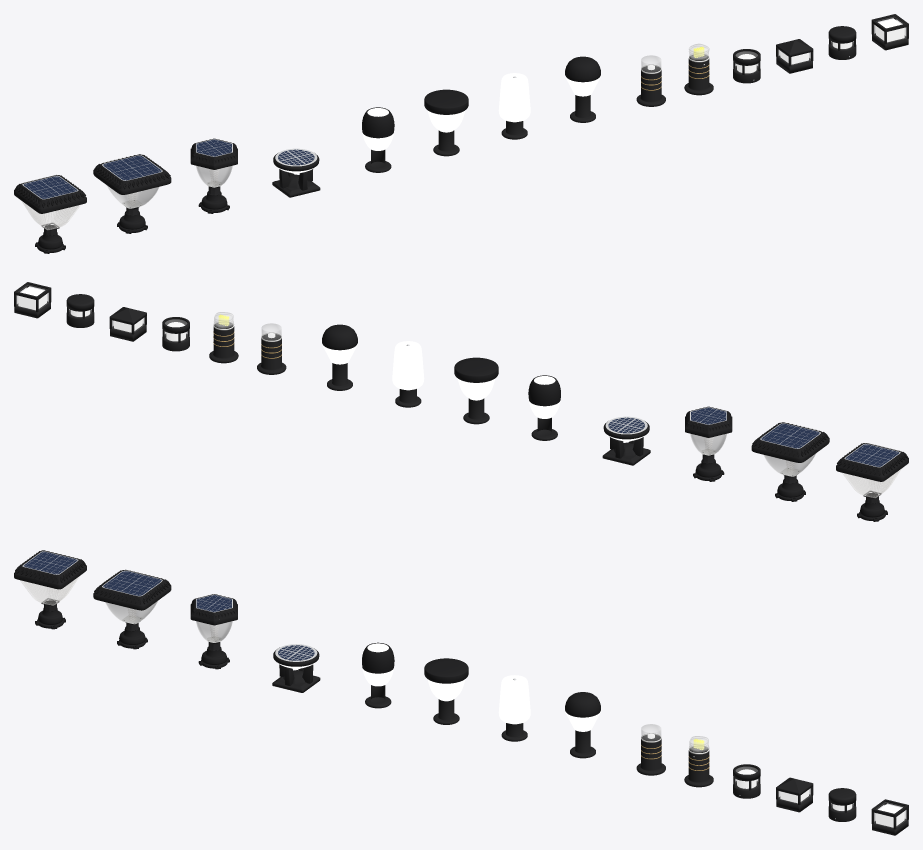
Rendered from gate_detail.glb.
3 views of the same model, one above another, from view 1: azimuth 30°, elevation 25°; view 2: azimuth 150°, elevation 25°; view 3: azimuth 330°, elevation 25° (orthographic).
Parts seen in each view (by area): view 1: IVO_opal.001, GLO_hat, SQC_pv, TAY_dome.001, STY_band, SQD_pv, SQD_glass, BO2_body, BO1_body, SQC_bowl, GLO_opal.001, HXC_bowl; view 2: IVO_opal.001, GLO_hat, SQC_pv, TAY_dome.001, STY_band, SQD_pv, SQD_glass, BO2_body, BO1_body, SQC_bowl, GLO_opal.001, HXC_bowl; view 3: IVO_opal.001, GLO_hat, SQC_pv, TAY_dome.001, STY_band, SQD_pv, SQD_glass, BO2_body, BO1_body.
Boxes of the visible parts, bbox=[...] form: IVO_opal.001: bbox=[498, 73, 530, 122]; GLO_hat: bbox=[424, 89, 468, 114]; SQC_pv: bbox=[103, 155, 161, 180]; TAY_dome.001: bbox=[565, 56, 600, 82]; STY_band: bbox=[362, 107, 394, 138]; SQD_pv: bbox=[23, 176, 77, 198]; SQD_glass: bbox=[21, 200, 80, 230]; BO2_body: bbox=[688, 55, 709, 90]; BO1_body: bbox=[640, 66, 661, 102]; SQC_bowl: bbox=[107, 185, 158, 208]; GLO_opal.001: bbox=[427, 110, 465, 132]; HXC_bowl: bbox=[196, 165, 232, 186]; IVO_opal.001: bbox=[392, 341, 424, 390]; GLO_hat: bbox=[454, 357, 498, 382]; SQC_pv: bbox=[761, 423, 819, 448]; TAY_dome.001: bbox=[322, 324, 357, 350]; STY_band: bbox=[528, 375, 560, 406]; SQD_pv: bbox=[845, 444, 899, 466]; SQD_glass: bbox=[842, 468, 901, 498]; BO2_body: bbox=[213, 323, 234, 358]; BO1_body: bbox=[261, 334, 282, 370]; SQC_bowl: bbox=[764, 453, 815, 476]; GLO_opal.001: bbox=[457, 378, 495, 400]; HXC_bowl: bbox=[690, 433, 726, 454]; IVO_opal.001: bbox=[498, 675, 530, 724]; GLO_hat: bbox=[424, 658, 468, 683]; SQC_pv: bbox=[103, 571, 161, 595]; TAY_dome.001: bbox=[565, 692, 600, 717]; STY_band: bbox=[362, 642, 394, 673]; SQD_pv: bbox=[23, 551, 77, 574]; SQD_glass: bbox=[20, 576, 79, 605]; BO2_body: bbox=[688, 747, 709, 782]; BO1_body: bbox=[640, 734, 661, 770].
Size of the model in its own units: 6.42 by 0.42 by 0.3845.
